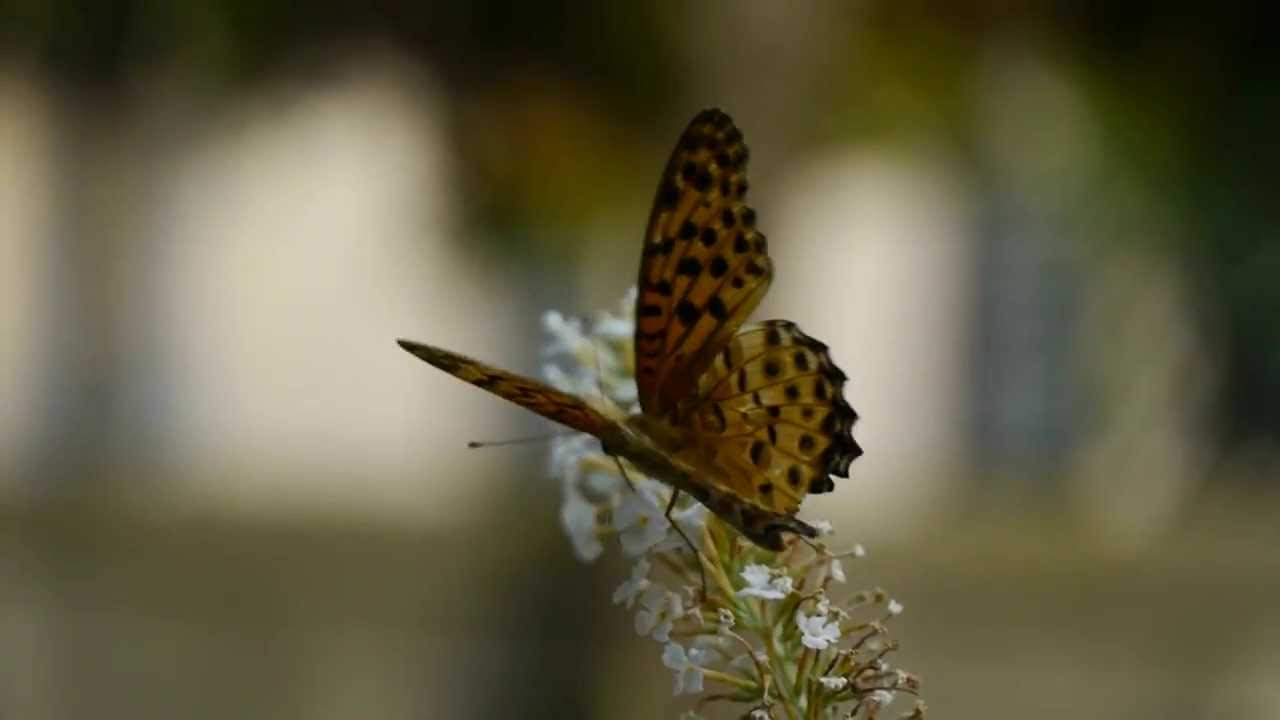Argyreus hyperbius: (387, 90, 874, 596)
butterfly: (389, 92, 876, 598)
